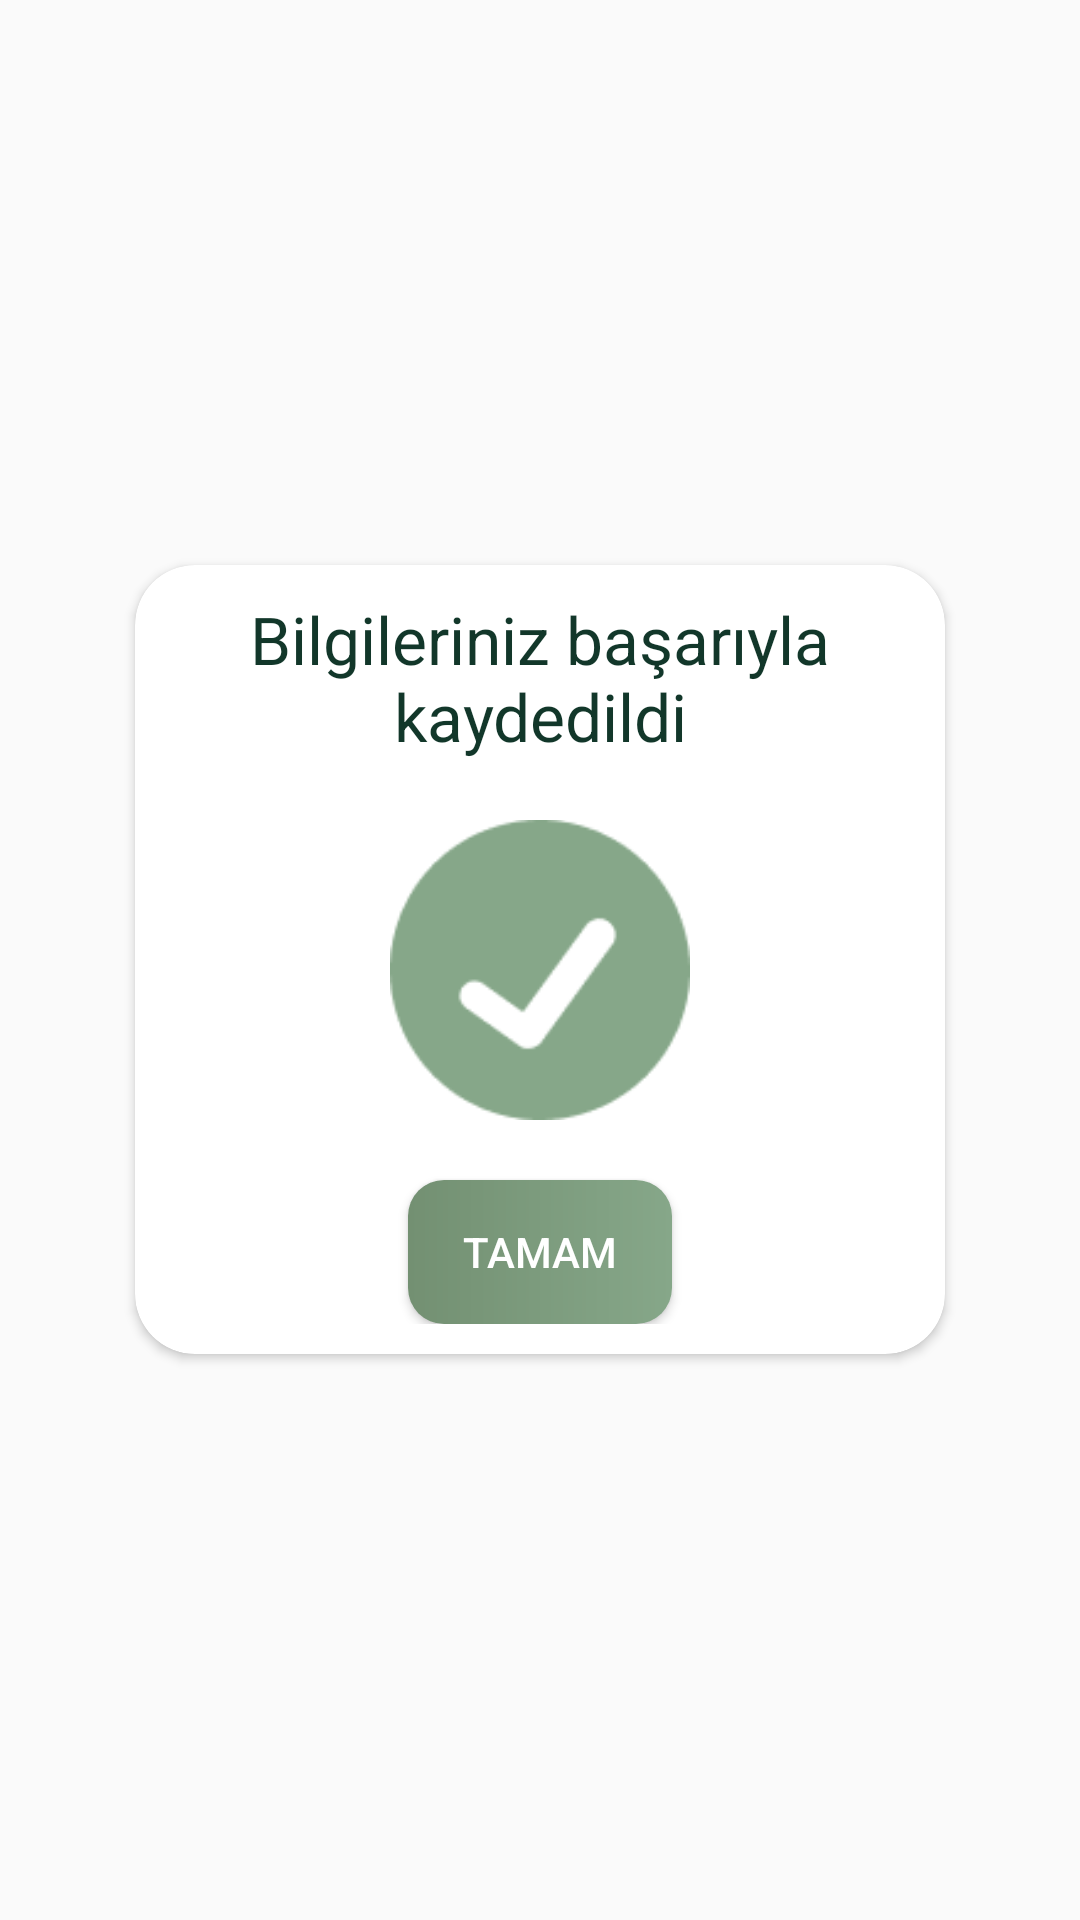

Named icons in this screenshot (1080w x 1920h) and their bounding boxes, bbox=(x1, y1, x2, y2):
check: bbox=(390, 820, 690, 1120)
